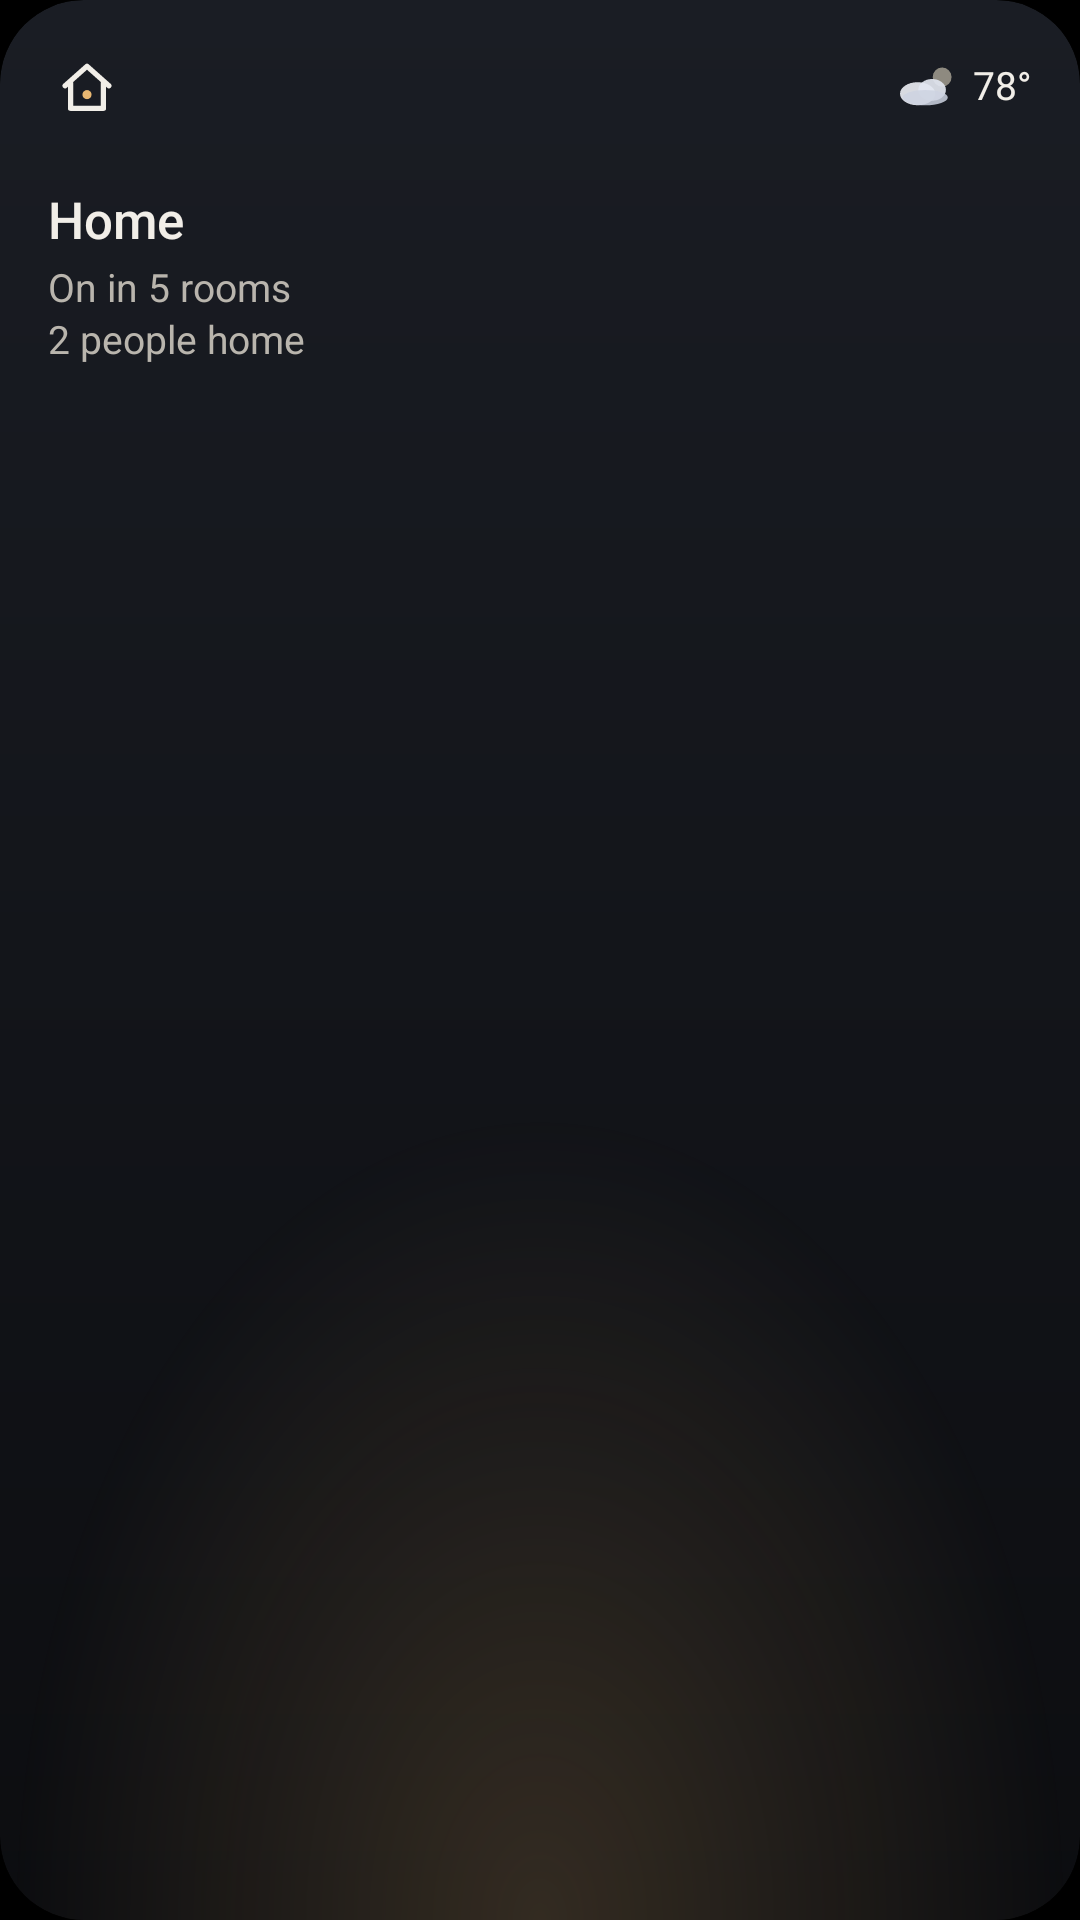

Where to tap for icons on this 1080x1920 app screen, as [x,y]:
House: [87,87]
sky partly: [926,86]
